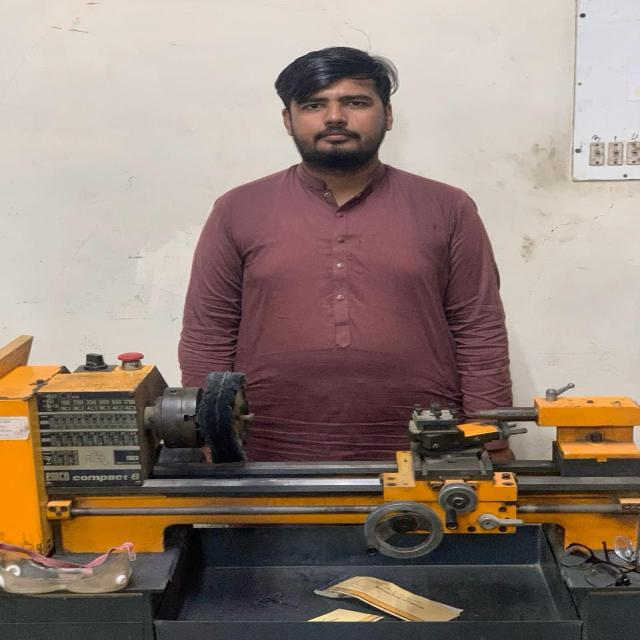dress: (176, 159, 520, 460)
